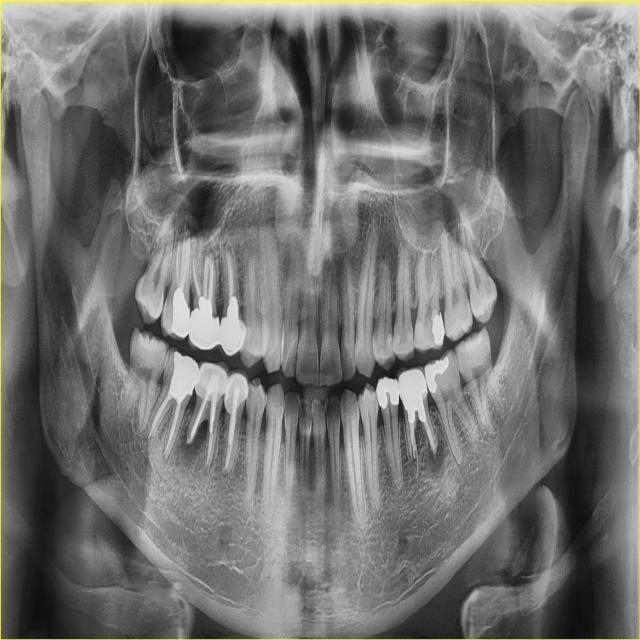71: (186, 374, 219, 436), (225, 378, 241, 446), (208, 373, 219, 436)
74: (143, 389, 176, 439), (174, 220, 187, 289), (165, 401, 181, 455), (409, 422, 421, 477), (189, 254, 202, 302), (180, 232, 190, 292), (423, 419, 438, 454), (207, 256, 214, 303), (202, 253, 209, 298), (223, 441, 233, 472), (228, 253, 234, 304), (205, 431, 214, 465)
NucleOSS Implant: (415, 347, 454, 396), (168, 350, 201, 404), (169, 287, 193, 339), (373, 374, 401, 409), (403, 383, 426, 425), (192, 294, 215, 328), (224, 296, 241, 337), (431, 312, 446, 347)
Sterngold Implant: (247, 384, 255, 404)
Straumann Implant: (403, 317, 436, 357), (392, 324, 414, 359), (378, 333, 395, 361)
Zimmer Implant: (193, 358, 232, 403), (187, 310, 221, 351), (222, 369, 250, 415), (217, 316, 248, 357), (395, 364, 428, 401)
